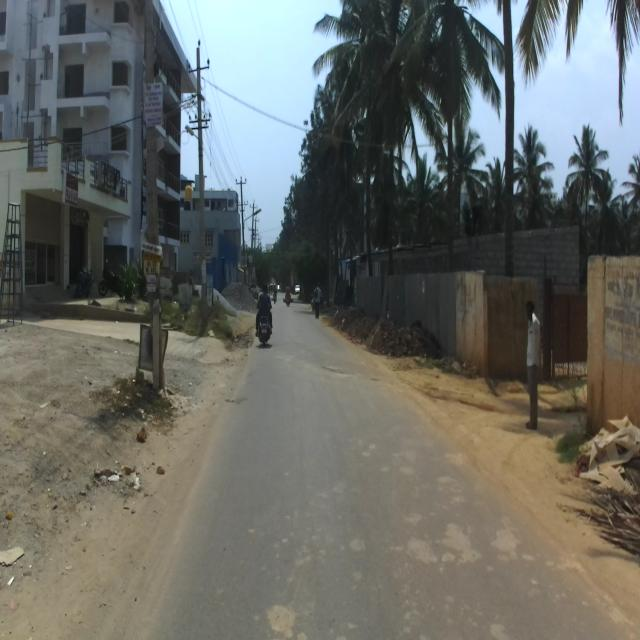electric pole ahead at: (132, 0, 172, 418), (180, 26, 222, 332)
motorcycle ahead at: (249, 275, 276, 359)
person ahead at: (518, 291, 548, 435)
